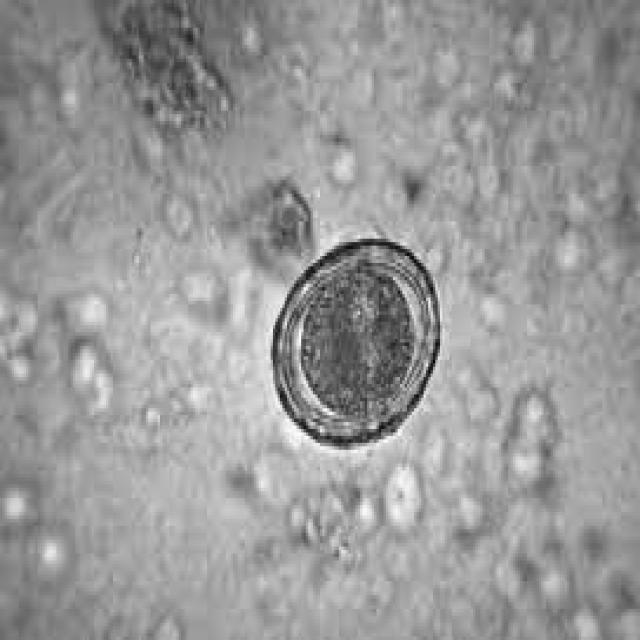Ascaris Lumbricoides: (270, 232, 448, 460)
